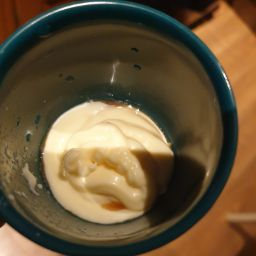Mayonnaise: (34, 96, 169, 229), (63, 117, 162, 210)
